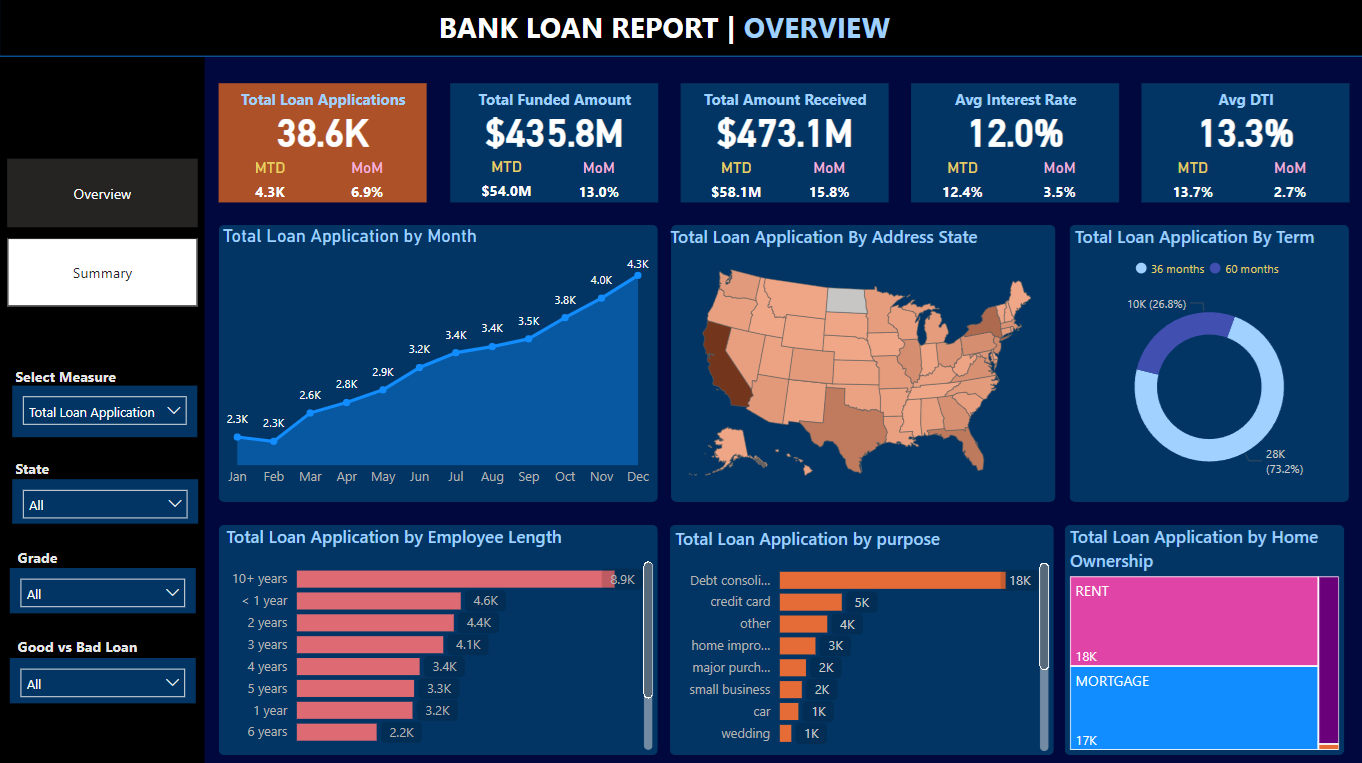

The page's visual inventory and layout, read from the dashboard file:
{"tool":"powerbi","page":{"name":"Overview","canvas":[1280,720],"ordinal":1},"visuals":[{"type":"shape","box":[0,54.7,192.7,664.8],"z":0},{"type":"shape","box":[206.2,79.7,194.8,111.6],"z":0,"group":"g1"},{"type":"shape","box":[422.1,79.7,194.8,111.6],"z":0,"group":"g4"},{"type":"shape","box":[638,79.7,194.8,111.6],"z":0,"group":"g3"},{"type":"shape","box":[853.9,79.7,194.8,111.6],"z":0,"group":"g2"},{"type":"shape","box":[1069.8,79.7,194.8,111.6],"z":0,"group":"g5"},{"type":"card","fields":{"Values":["financial_loan.Total Loan Application"]},"box":[206.2,95.6,194.8,54.7],"z":1000,"group":"g1"},{"type":"card","fields":{"Values":["financial_loan.Total Funded Amount"]},"box":[422.1,95.6,194.8,54.7],"z":1000,"group":"g4"},{"type":"card","fields":{"Values":["financial_loan.Total Amount Recived"]},"box":[638,95.6,194.8,54.7],"z":1000,"group":"g3"},{"type":"card","fields":{"Values":["financial_loan.Avg Interest Rate"]},"box":[853.9,95.6,194.8,54.7],"z":1000,"group":"g2"},{"type":"card","fields":{"Values":["financial_loan.Avg DTI"]},"box":[1069.8,95.6,194.8,54.7],"z":1000,"group":"g5"},{"type":"textbox","box":[207.3,79.7,193.7,31.9],"z":2000,"group":"g1"},{"type":"textbox","box":[423.2,79.7,193.7,31.9],"z":2000,"group":"g4"},{"type":"textbox","box":[639.1,79.7,193.7,31.9],"z":2000,"group":"g3"},{"type":"textbox","box":[855,79.7,193.7,31.9],"z":2000,"group":"g2"},{"type":"textbox","box":[1070.9,79.7,193.7,31.9],"z":2000,"group":"g5"},{"type":"card","title":"MTD","fields":{"Values":["financial_loan.MTD Funded Amount"]},"box":[445.4,149.8,58.1,50.1],"z":3000,"group":"g4"},{"type":"card","title":"MTD","fields":{"Values":["financial_loan.MTD Loan Applications"]},"box":[229,150.3,51.3,50.1],"z":3000,"group":"g1"},{"type":"card","title":"MTD","fields":{"Values":["financial_loan.MTD Avg Interest"]},"box":[876.7,150.3,51.3,50.1],"z":3000,"group":"g2"},{"type":"card","title":"MTD","fields":{"Values":["financial_loan.MTD Avg DTI"]},"box":[1092.6,150.3,51.3,50.1],"z":3000,"group":"g5"},{"type":"card","title":"MTD","fields":{"Values":["financial_loan.MTD Total Amount Recieved"]},"box":[660.5,150.6,59.2,50.1],"z":3000,"group":"g3"},{"type":"shape","box":[205.6,212.4,411.3,259.6],"z":3000},{"type":"textbox","box":[1.1,0,193.7,31.9],"z":4000},{"type":"card","title":"MoM","fields":{"Values":["financial_loan.MoM Loan Application"]},"box":[320.1,150.3,51.3,50.1],"z":4000,"group":"g1"},{"type":"card","title":"MoM","fields":{"Values":["financial_loan.MoM Total funded Amount"]},"box":[536,150.3,51.3,50.1],"z":4000,"group":"g4"},{"type":"card","title":"MoM","fields":{"Values":["financial_loan.MoM Total Amount Recieved"]},"box":[751.9,150.3,51.3,50.1],"z":4000,"group":"g3"},{"type":"card","title":"MoM","fields":{"Values":["financial_loan.MoM Avg Int Rate"]},"box":[967.8,150.3,51.3,50.1],"z":4000,"group":"g2"},{"type":"card","title":"MoM","fields":{"Values":["financial_loan.MoM Avg DTI"]},"box":[1183.7,150.3,51.3,50.1],"z":4000,"group":"g5"},{"type":"textbox","box":[11.1,10,193.7,31.9],"z":5000},{"type":"textbox","box":[21.1,20,193.7,31.9],"z":7000},{"type":"textbox","box":[31.1,30,193.7,31.9],"z":8000},{"type":"shape","box":[0,0,1279.4,55],"z":9000},{"type":"textbox","box":[407.1,3.4,448.1,46.8],"z":13000},{"type":"group","id":"g1","title":"Group 1","box":[206.2,79.7,194.8,120.8],"z":14000},{"type":"group","id":"g2","title":"Group 1","box":[853.9,79.7,194.8,120.8],"z":15000},{"type":"group","id":"g3","title":"Group 1","box":[638,79.7,194.8,120.8],"z":16000},{"type":"group","id":"g4","title":"Group 1","box":[422.1,79.7,194.8,120.8],"z":17000},{"type":"group","id":"g5","title":"Group 1","box":[1069.8,79.7,194.8,120.8],"z":18000},{"type":"slicer","fields":{"Values":["financial_loan.address_state"]},"box":[10.3,450.4,174.5,42.2],"z":25000},{"type":"textbox","box":[10.3,426.5,163.1,31.9],"z":26000},{"type":"slicer","fields":{"Values":["financial_loan.grade"]},"box":[11.4,551.9,174.5,42.2],"z":27000},{"type":"slicer","fields":{"Values":["financial_loan.purpose"]},"box":[10.3,652.3,174.5,42.2],"z":28000},{"type":"textbox","box":[10.3,526.8,163.1,31.9],"z":29000},{"type":"textbox","box":[10.3,628.3,163.1,31.9],"z":30000},{"type":"areaChart","fields":{"Category":["Date Table.Month"],"Y":["financial_loan.Total Amount Recived"]},"box":[207.9,212.4,400.1,255.1],"z":30001},{"type":"slicer","fields":{"Values":["Select Measure.Select Measure"]},"box":[5.6,334.9,184.3,48.3],"z":30002},{"type":"textbox","box":[11.2,310.2,162.9,32.6],"z":30003},{"type":"shape","box":[628.2,212.4,360,259.6],"z":30004}]}

Visuals, with their boxes on the page's 1280x720 design canvas (x1, y1, x2, y2). These are canvas units, not pixel positions in the 1362x763 screenshot, which may show the page scaled, cropped or inside an application window:
shape: <bbox>0, 55, 193, 720</bbox>
shape: <bbox>206, 80, 401, 191</bbox>
shape: <bbox>422, 80, 617, 191</bbox>
shape: <bbox>638, 80, 833, 191</bbox>
shape: <bbox>854, 80, 1049, 191</bbox>
shape: <bbox>1070, 80, 1265, 191</bbox>
card - financial_loan.Total Loan Application: <bbox>206, 96, 401, 150</bbox>
card - financial_loan.Total Funded Amount: <bbox>422, 96, 617, 150</bbox>
card - financial_loan.Total Amount Recived: <bbox>638, 96, 833, 150</bbox>
card - financial_loan.Avg Interest Rate: <bbox>854, 96, 1049, 150</bbox>
card - financial_loan.Avg DTI: <bbox>1070, 96, 1265, 150</bbox>
textbox: <bbox>207, 80, 401, 112</bbox>
textbox: <bbox>423, 80, 617, 112</bbox>
textbox: <bbox>639, 80, 833, 112</bbox>
textbox: <bbox>855, 80, 1049, 112</bbox>
textbox: <bbox>1071, 80, 1265, 112</bbox>
"MTD" card: <bbox>445, 150, 504, 200</bbox>
"MTD" card: <bbox>229, 150, 280, 200</bbox>
"MTD" card: <bbox>877, 150, 928, 200</bbox>
"MTD" card: <bbox>1093, 150, 1144, 200</bbox>
"MTD" card: <bbox>660, 151, 720, 201</bbox>
shape: <bbox>206, 212, 617, 472</bbox>
textbox: <bbox>1, 0, 195, 32</bbox>
"MoM" card: <bbox>320, 150, 371, 200</bbox>
"MoM" card: <bbox>536, 150, 587, 200</bbox>
"MoM" card: <bbox>752, 150, 803, 200</bbox>
"MoM" card: <bbox>968, 150, 1019, 200</bbox>
"MoM" card: <bbox>1184, 150, 1235, 200</bbox>
textbox: <bbox>11, 10, 205, 42</bbox>
textbox: <bbox>21, 20, 215, 52</bbox>
textbox: <bbox>31, 30, 225, 62</bbox>
shape: <bbox>0, 0, 1279, 55</bbox>
textbox: <bbox>407, 3, 855, 50</bbox>
"Group 1" group: <bbox>206, 80, 401, 200</bbox>
"Group 1" group: <bbox>854, 80, 1049, 200</bbox>
"Group 1" group: <bbox>638, 80, 833, 200</bbox>
"Group 1" group: <bbox>422, 80, 617, 200</bbox>
"Group 1" group: <bbox>1070, 80, 1265, 200</bbox>
slicer - financial_loan.address_state: <bbox>10, 450, 185, 493</bbox>
textbox: <bbox>10, 426, 173, 458</bbox>
slicer - financial_loan.grade: <bbox>11, 552, 186, 594</bbox>
slicer - financial_loan.purpose: <bbox>10, 652, 185, 694</bbox>
textbox: <bbox>10, 527, 173, 559</bbox>
textbox: <bbox>10, 628, 173, 660</bbox>
areaChart - Date Table.Month x financial_loan.Total Amount Recived: <bbox>208, 212, 608, 468</bbox>
slicer - Select Measure.Select Measure: <bbox>6, 335, 190, 383</bbox>
textbox: <bbox>11, 310, 174, 343</bbox>
shape: <bbox>628, 212, 988, 472</bbox>
